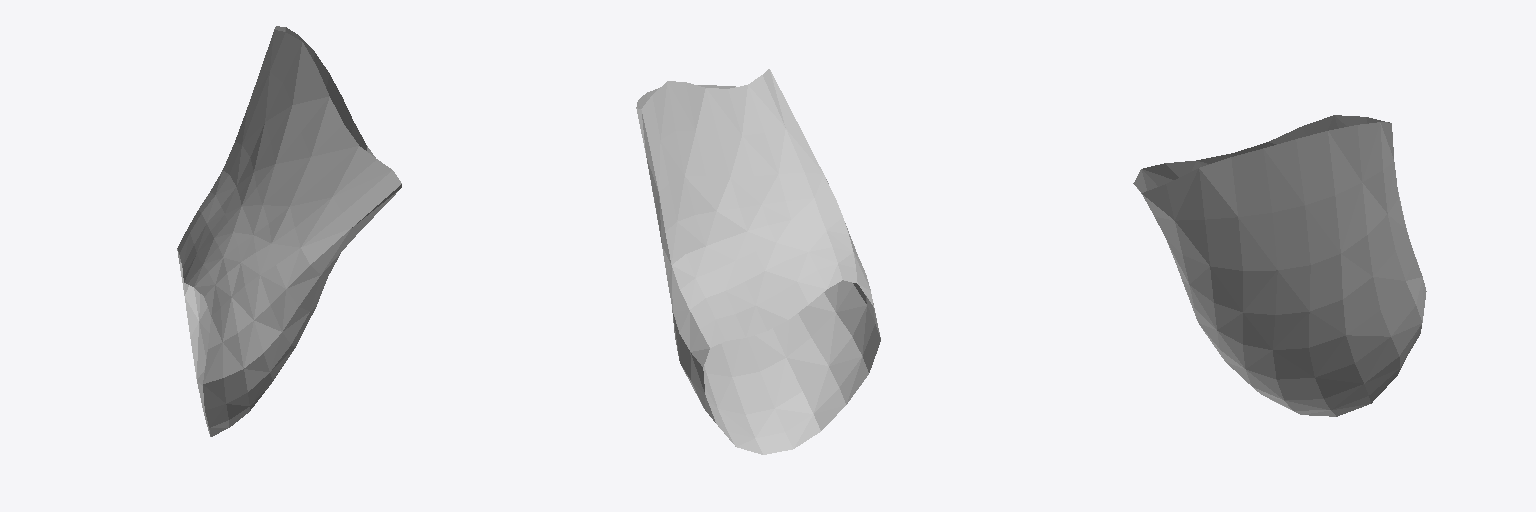
Rendered from masseter_deep_left.obj.
3 views of the same model, side by side, from view 1: azimuth 30°, elevation 25°; view 2: azimuth 150°, elevation 25°; view 3: azimuth 270°, elevation 25° (orthographic).
Visible parts, largest first — view 1: Masseter_Deep_Muscle_Left; view 2: Masseter_Deep_Muscle_Left; view 3: Masseter_Deep_Muscle_Left.
Part boxes in pixels (x1,y1,x2,y2): Masseter_Deep_Muscle_Left: (177, 26, 401, 436); Masseter_Deep_Muscle_Left: (636, 69, 880, 454); Masseter_Deep_Muscle_Left: (1133, 115, 1426, 416).
Size of the model in its own units: 0.2 by 0.4061 by 0.3052.